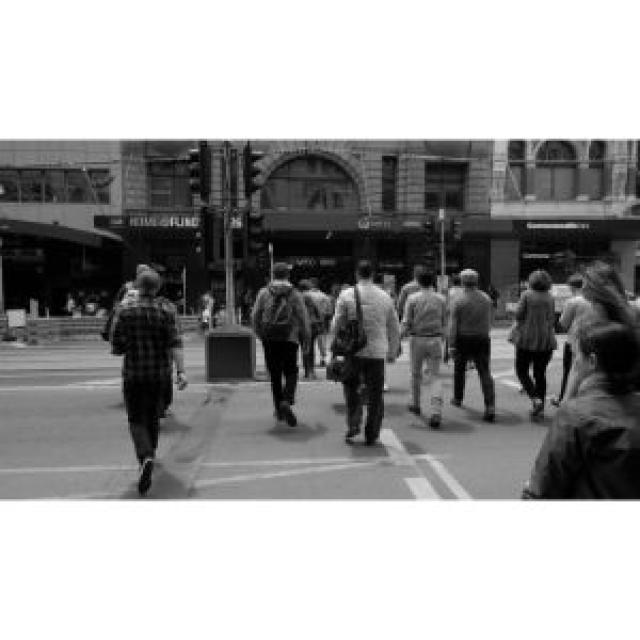nonfall: (96, 266, 199, 496), (329, 256, 396, 438), (249, 258, 312, 430), (451, 268, 510, 429), (518, 266, 565, 414), (409, 279, 448, 425)
